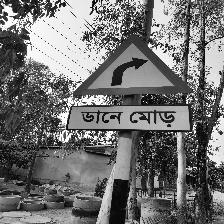Right-turn: (69, 35, 195, 134)
